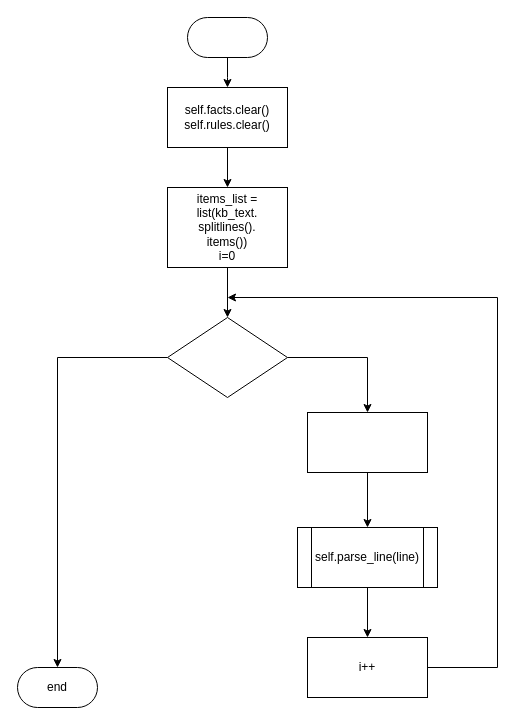
The diagram is 523 pixels wide and 725 high, and some of its shapes have lost their labels. The centre of each missing label's shape, as x and y in pixels:
"begin" belongs at [227,37].
"i<len(items_list)" belongs at [227,357].
"line= items_list[i]" belongs at [367,442].
